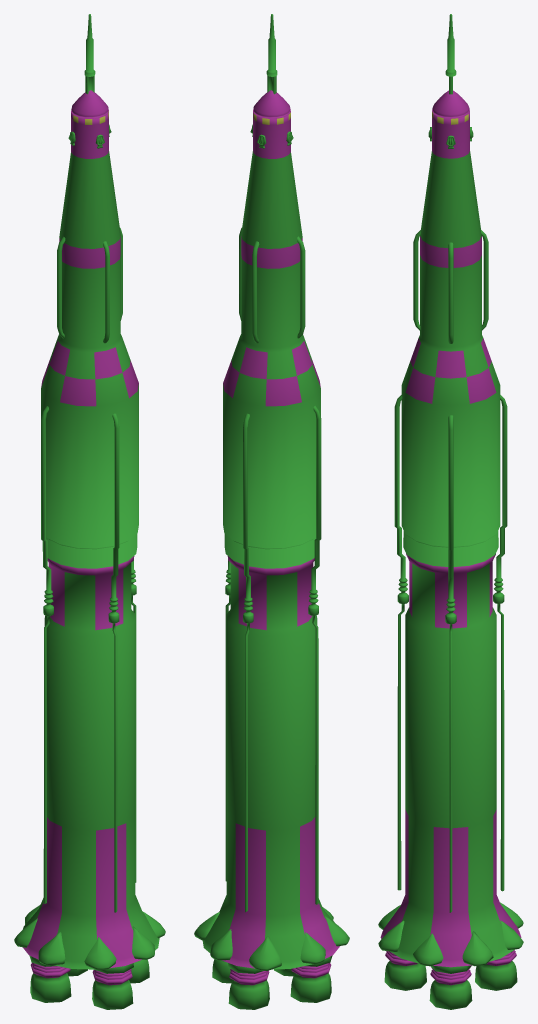
Rendered from spaceship.fbx.
3 views of the same model, side by side, from view 1: azimuth 30°, elevation 25°; view 2: azimuth 150°, elevation 25°; view 3: azimuth 270°, elevation 25° (orthographic).
Parts seen in each view (by area): view 1: spaceship; view 2: spaceship; view 3: spaceship.
Boxes of the visible parts, box(x1,y1,x2,y2) form: spaceship: box(14, 14, 165, 1009); spaceship: box(194, 14, 349, 1009); spaceship: box(378, 14, 523, 1009).
Bounding box in the file's own units: 3.19 × 23.39 × 3.19.
